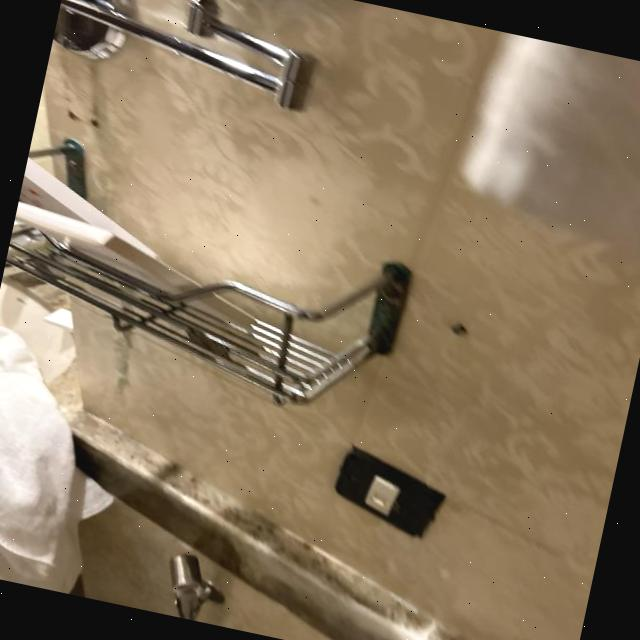disorganized_towel: (0, 326, 117, 589)
mess: (25, 397, 606, 640), (1, 140, 327, 362)
